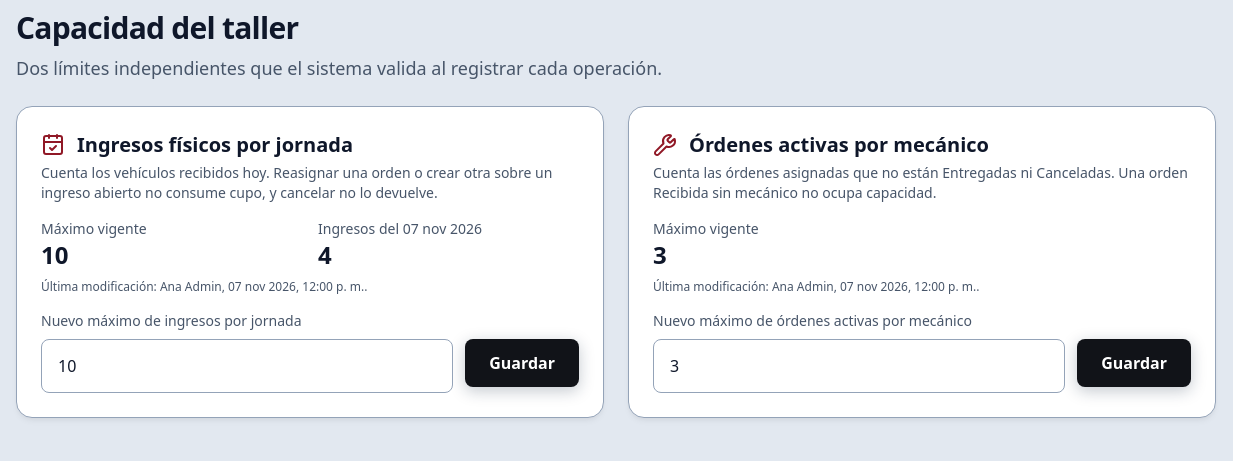
Scenario: AdminConfigurationPage: límites independientes del taller › traduce el 422 de MS2 y conserva el valor vigente
The width and height of the screenshot is (1233, 461).
Step 1. Replace the text in the number field labelled "Nuevo máximo de órdenes activas por mecánico" with "5" → (859,366), box 653,339 -> 1065,393
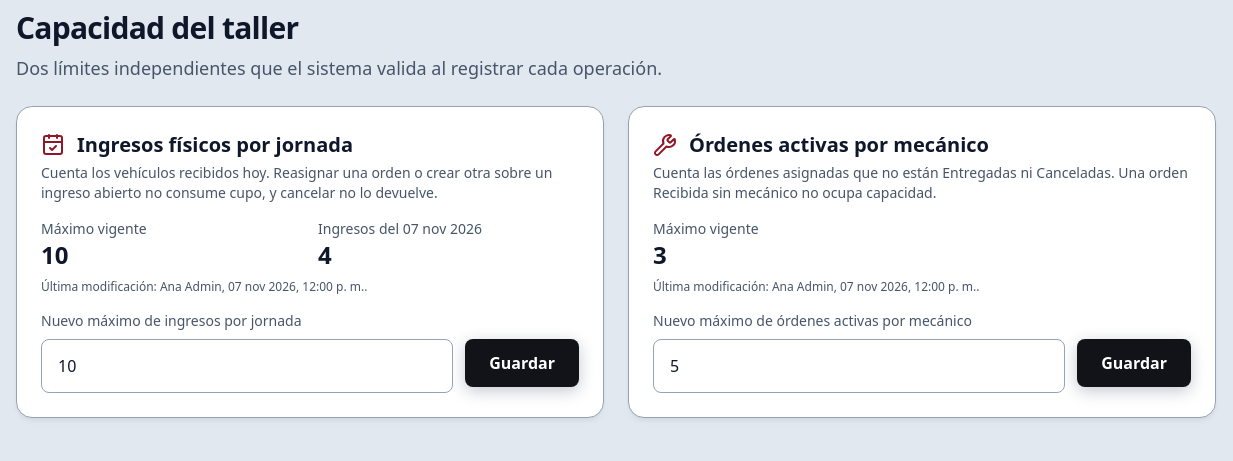
Step 2. Click the 2nd button "Guardar" → (1134,363), box 1077,339 -> 1191,387
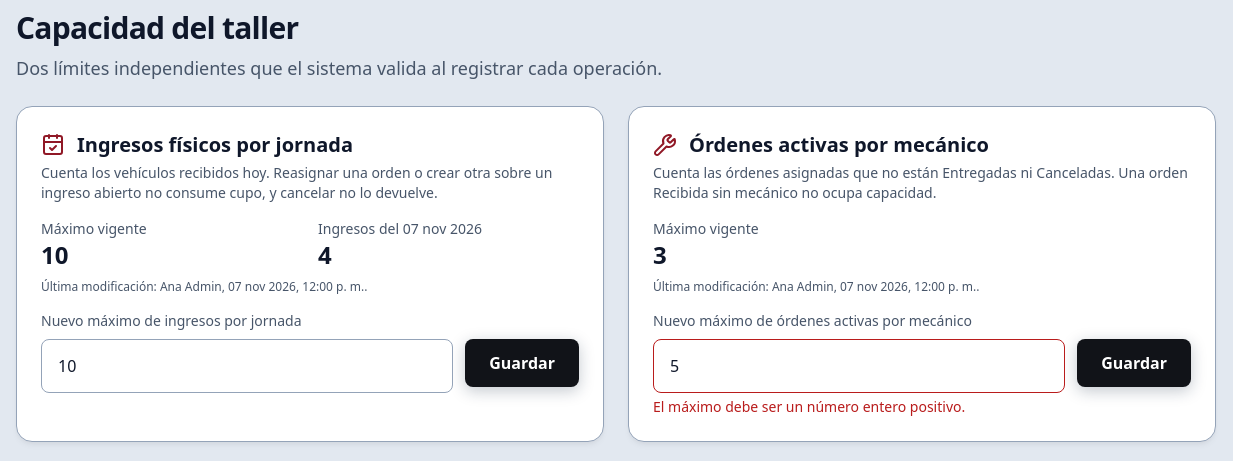
expect the text "3" is shown: met, box 653,238 -> 667,271
expect the text "El máximo debe ser un número entero positivo." is shown: met, box 653,397 -> 965,416
